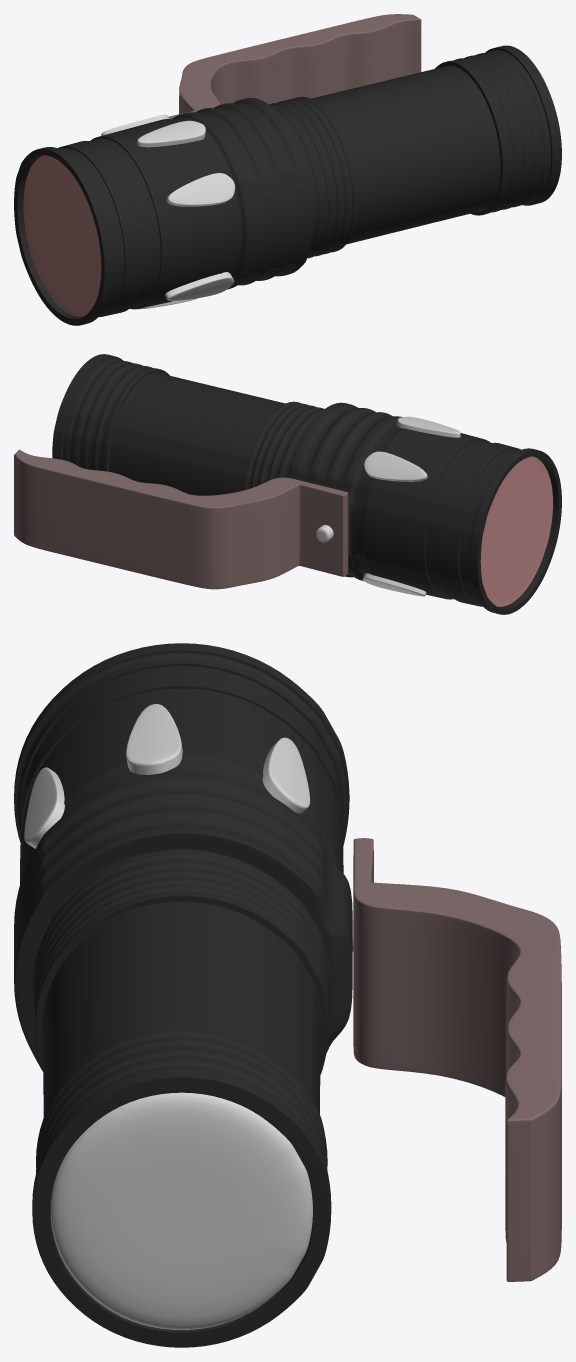
Rendered from Lintern.fbx.
3 views of the same model, one above another, from view 1: azimuth 30°, elevation 25°; view 2: azimuth 150°, elevation 25°; view 3: azimuth 270°, elevation 25° (orthographic). The views are drawn at different scales.
Visible parts, largest first — view 1: Cuerpo1, Mango, pCube5, pCube2, pCube6; view 2: Cuerpo1, Mango, pCube6, pCube2, pCube5; view 3: Cuerpo1, Mango, pCube2, pCube6, pCube5.
Part boxes in pixels (x1,y1,x2,y2): Cuerpo1: (14, 45, 561, 325); Mango: (169, 14, 421, 119); pCube5: (166, 173, 235, 206); pCube2: (137, 120, 205, 147); pCube6: (165, 272, 234, 301); Cuerpo1: (52, 354, 561, 614); Mango: (14, 449, 348, 589); pCube6: (364, 451, 427, 481); pCube2: (397, 416, 460, 437); pCube5: (362, 573, 426, 596); Cuerpo1: (14, 643, 352, 1347); Mango: (353, 838, 561, 1281); pCube2: (126, 704, 182, 774); pCube6: (262, 737, 310, 813); pCube5: (24, 767, 64, 848).
Size of the model in its own units: 5.54 by 1.96 by 3.05.
